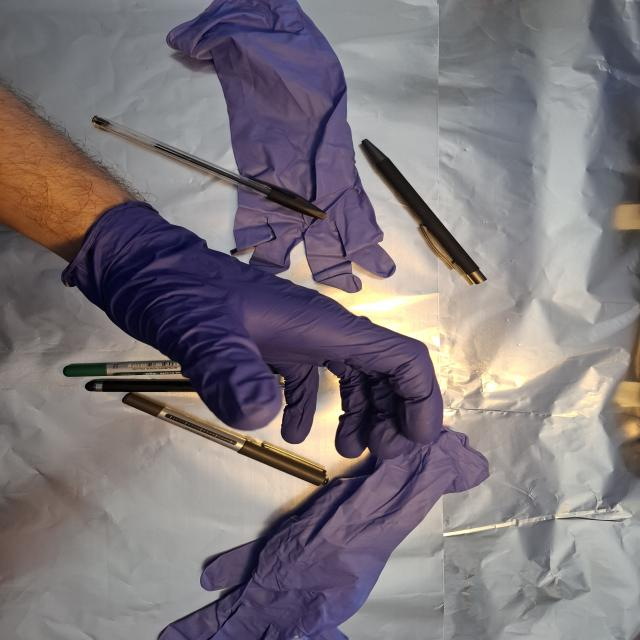glove_on: (67, 202, 450, 464)
